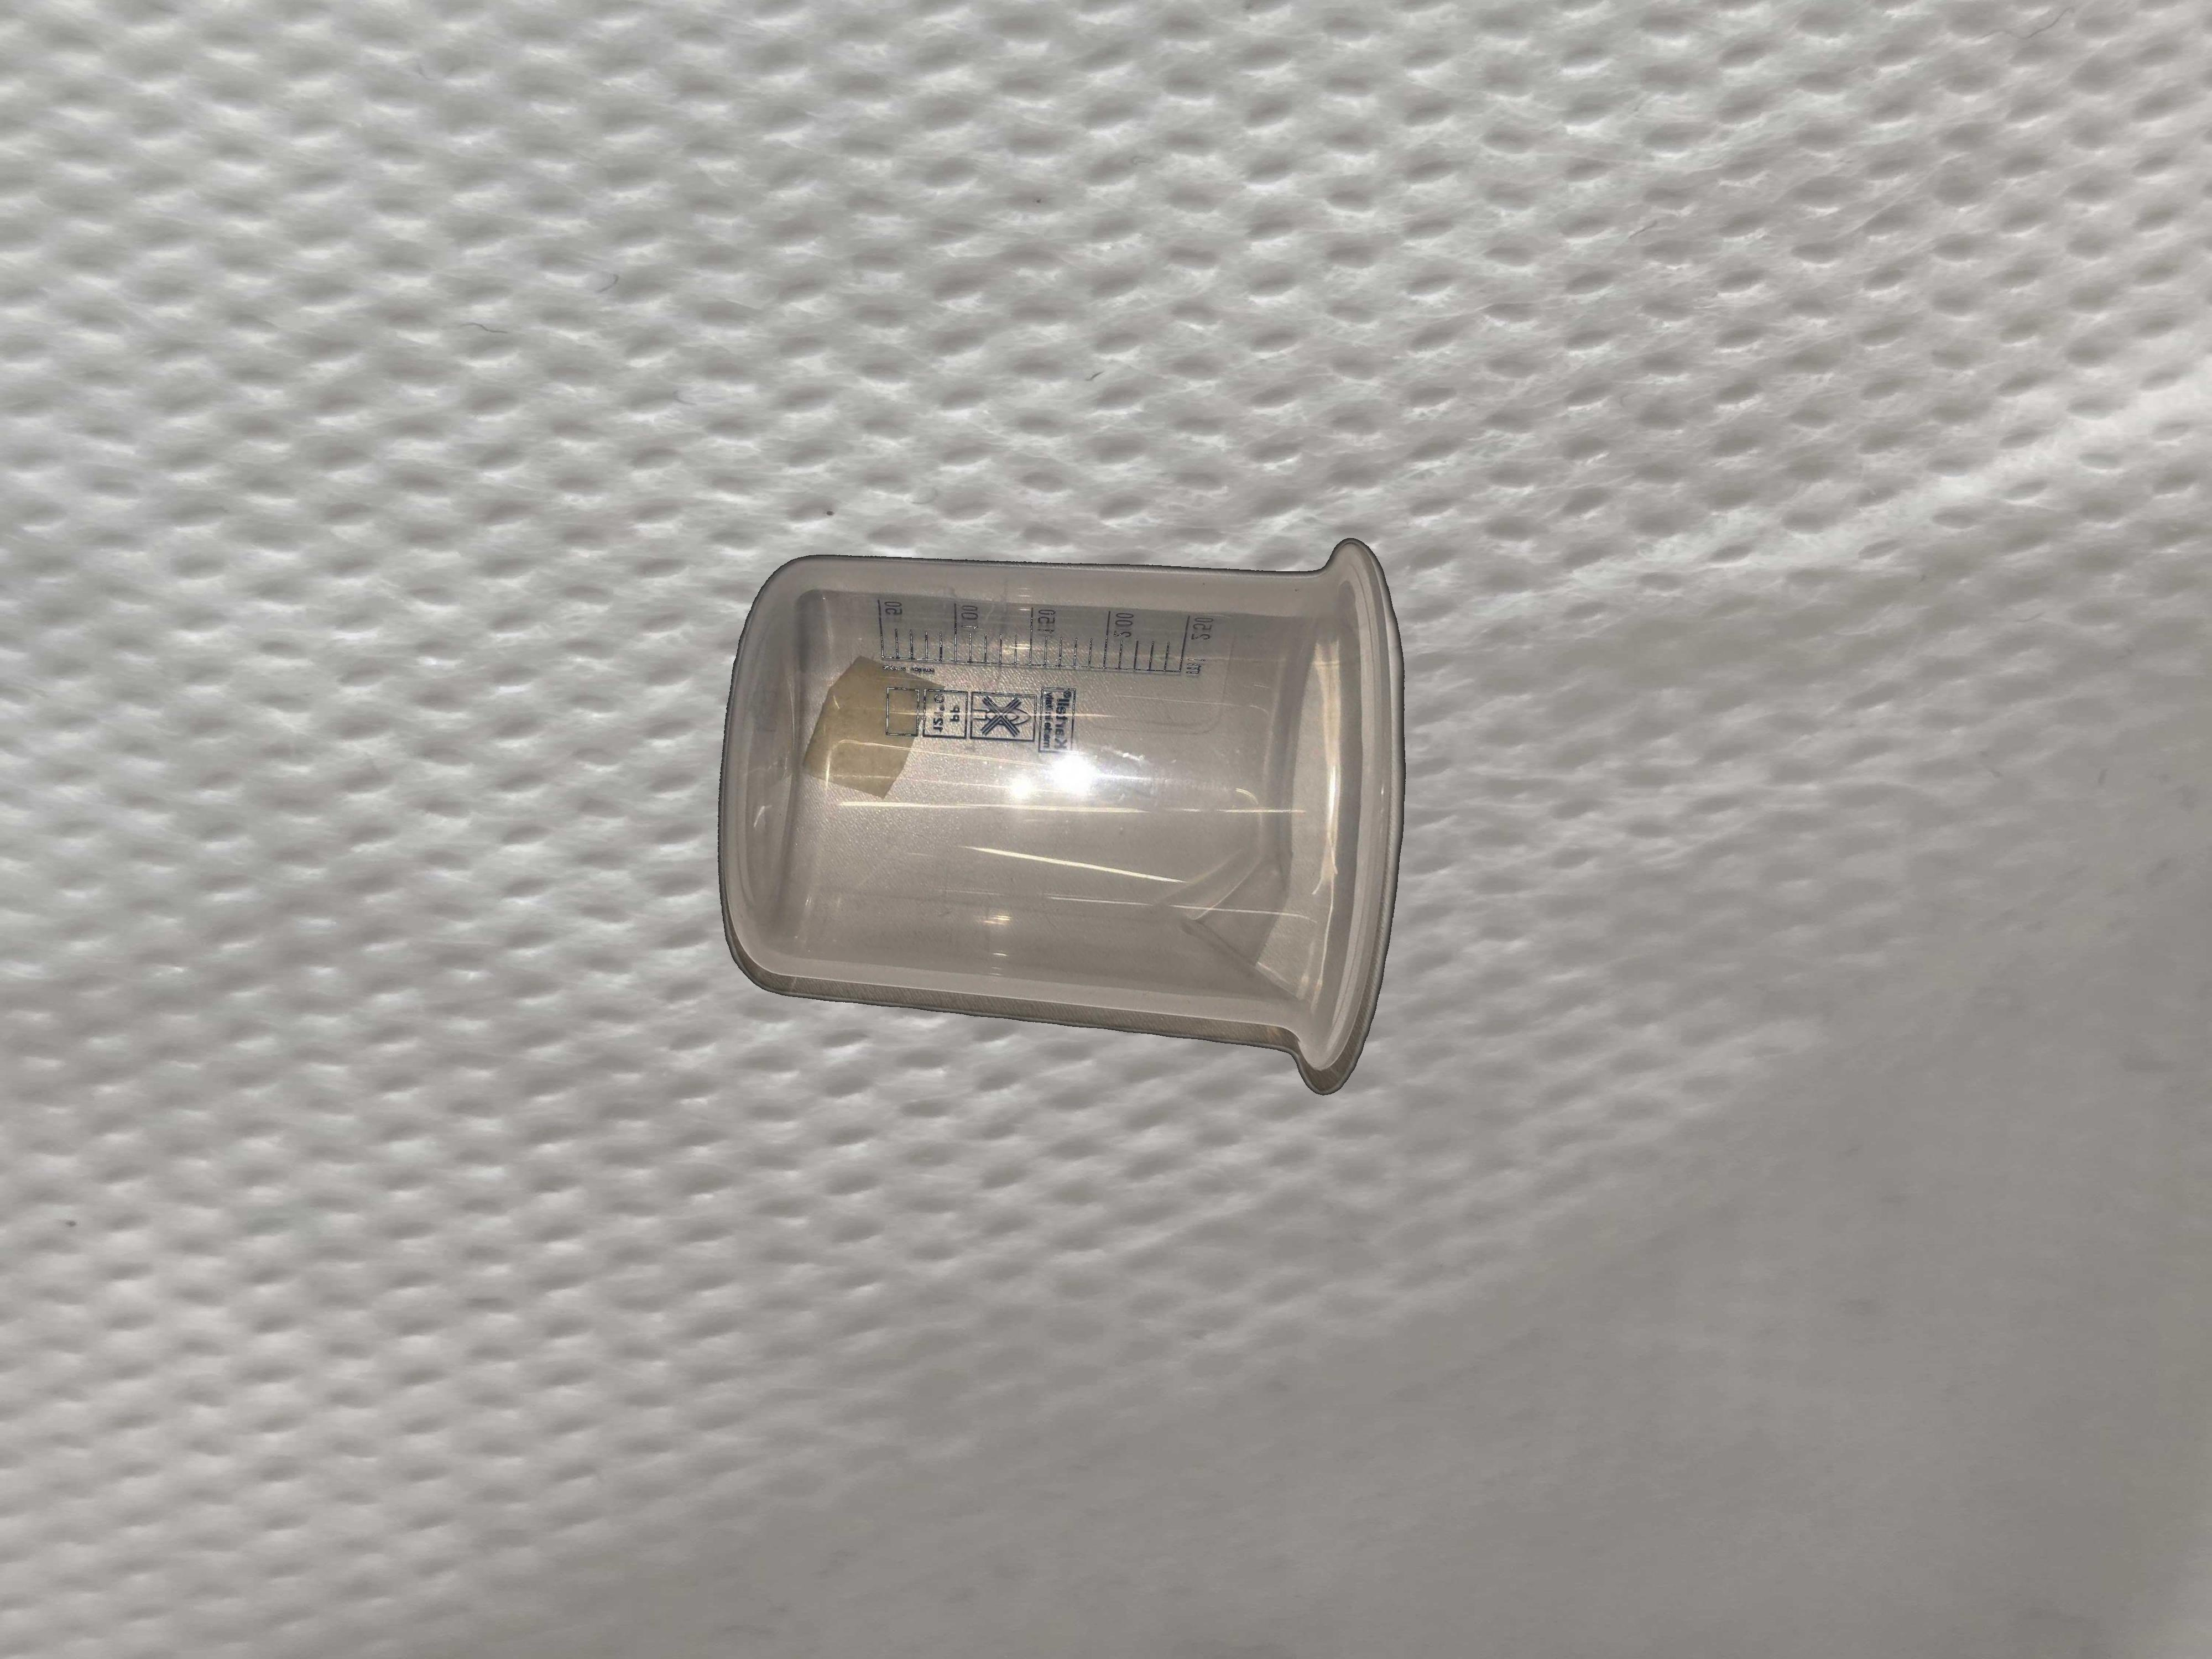becker: (721, 545, 1407, 1100)
